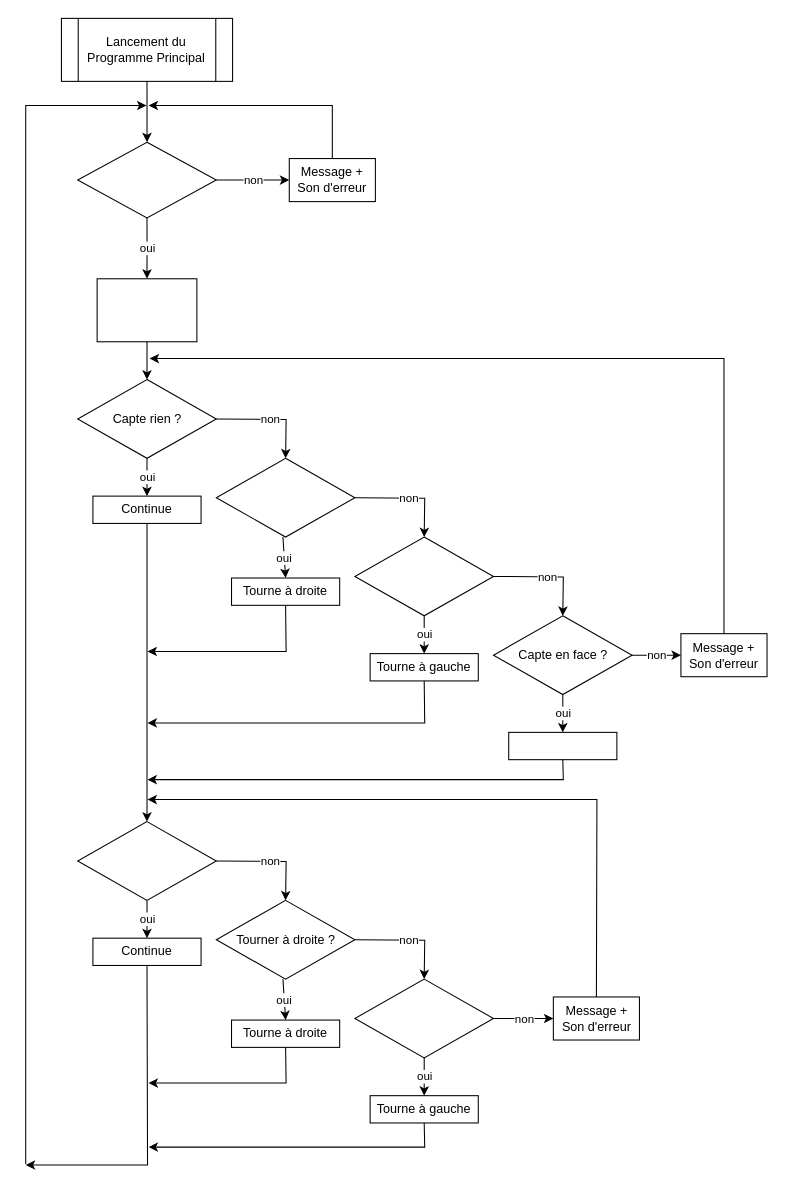
Image size: 785x1192. Some labels were removed from this diagram. Each missing label, with the centre of its shape:
Arrêt + Klaxonne: (562,745)
Avance et Affiche "En Cours": (146,310)
Capte à droite ?: (424,576)
Capte à gauche ?: (285,497)
Pas d'info ?: (146,860)
Robot prêt ?: (146,179)
Tourner à gauche ?: (424,1018)
